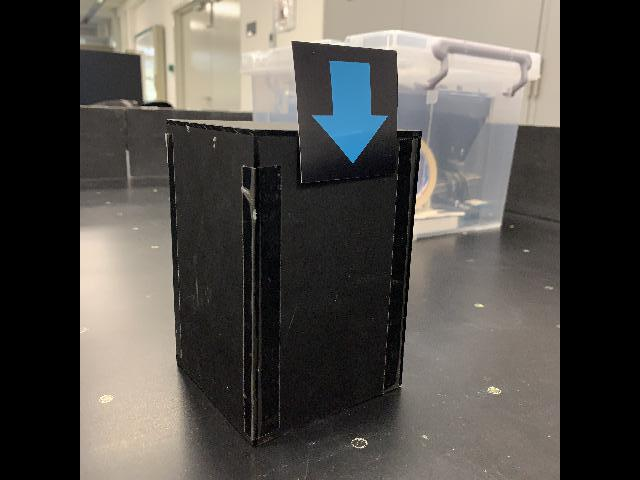down: (290, 38, 402, 189)
